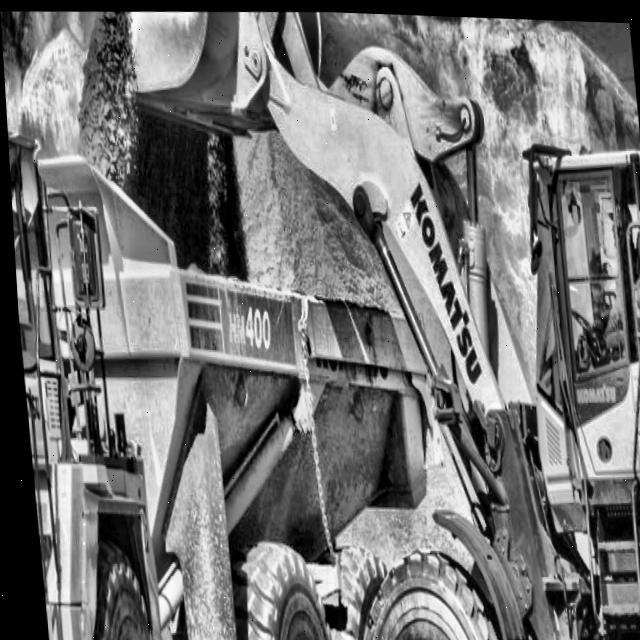buldozerpayloadergrader: (108, 3, 640, 640)
dump_truck: (4, 92, 462, 640)
